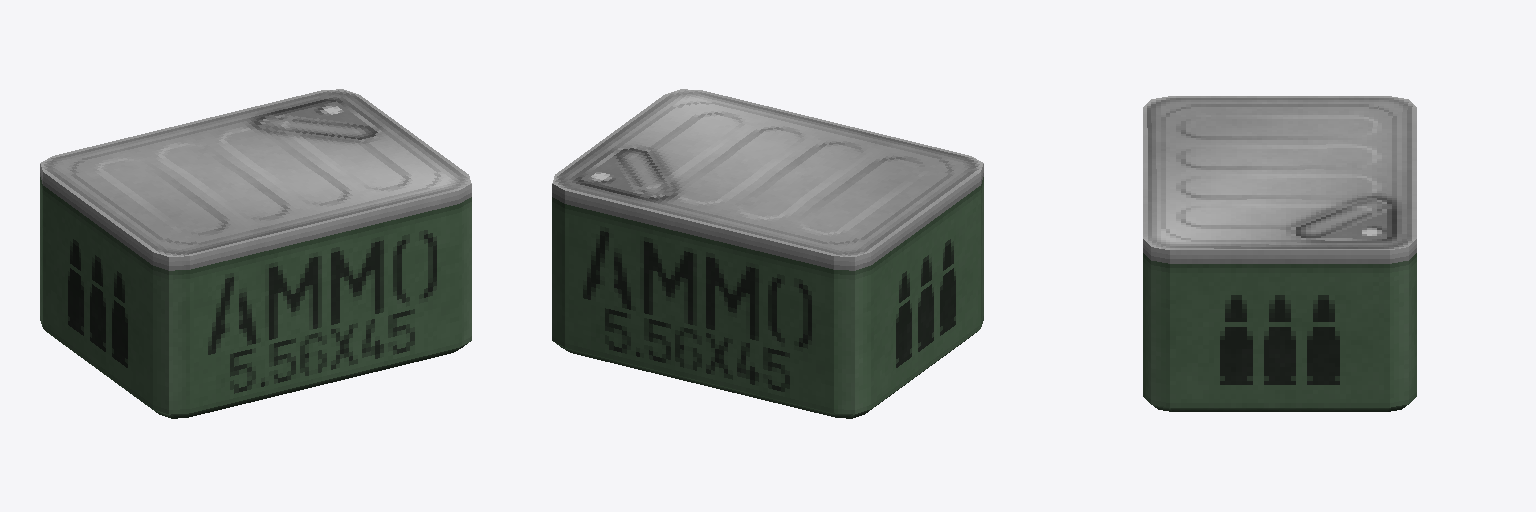
3 renders of one model, left to right at view 1: azimuth 30°, elevation 25°; view 2: azimuth 150°, elevation 25°; view 3: azimuth 270°, elevation 25°, orthographic.
Visible parts, largest first — view 1: ammo_can; view 2: ammo_can; view 3: ammo_can.
Boxes of the visible parts, <box> form: ammo_can: <box>40,89,471,418</box>; ammo_can: <box>552,89,983,418</box>; ammo_can: <box>1143,96,1416,411</box>.
Size of the model in its own units: 2 by 1 by 1.5.
Materials: 1 (1 with a texture image).